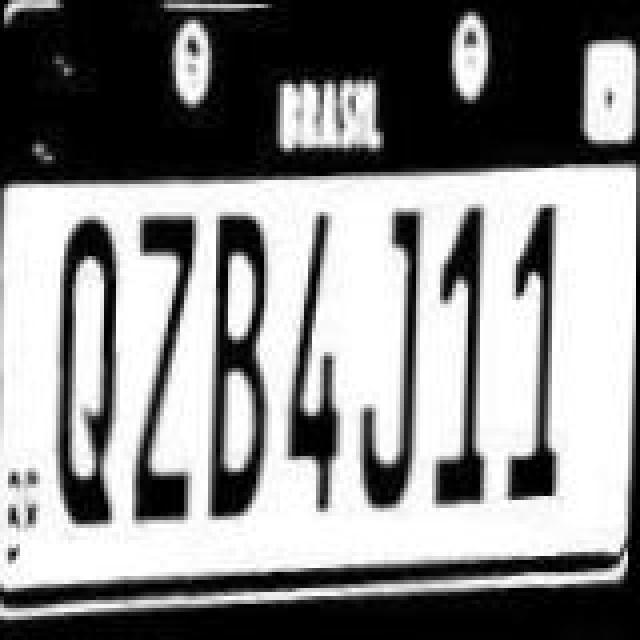1: (492, 204, 572, 496), (428, 202, 500, 502)
4: (284, 212, 356, 508)
B: (202, 214, 278, 522)
J: (360, 206, 432, 494)
Q: (52, 214, 132, 526)
Z: (132, 214, 204, 522)
